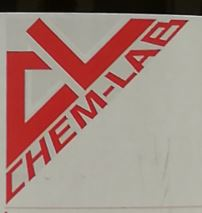ChemLab: (3, 17, 190, 206)
